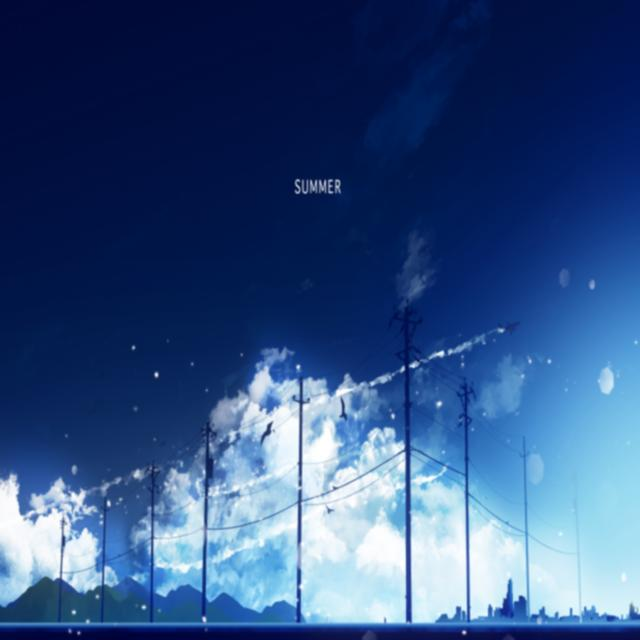pole: (399, 353, 416, 619), (462, 410, 474, 616), (294, 417, 306, 615), (522, 474, 532, 614), (146, 492, 156, 617), (202, 455, 210, 608), (99, 506, 107, 616), (58, 532, 64, 610)
